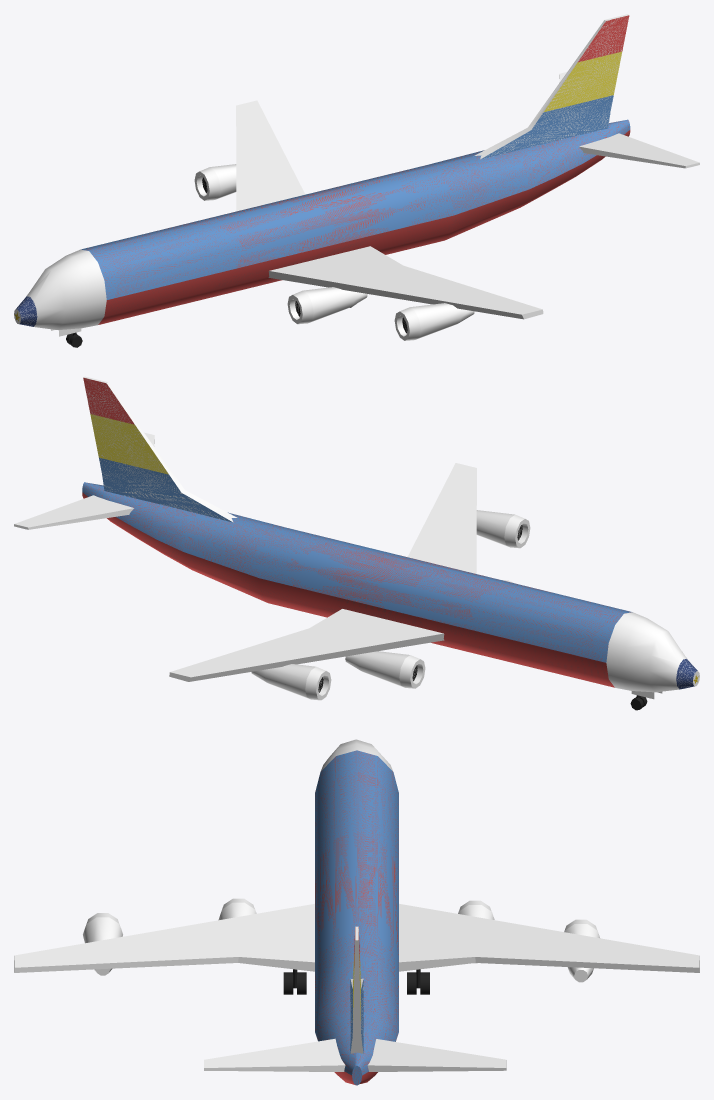
The model's file is airplane.dae.
3 views of the same model, one above another, from view 1: azimuth 30°, elevation 25°; view 2: azimuth 150°, elevation 25°; view 3: azimuth 270°, elevation 25° (orthographic). The views are drawn at different scales.
Visible parts, largest first — view 1: SketchUp (×13); view 2: SketchUp (×13); view 3: SketchUp (×10).
Part boxes in pixels (x1,y1,x2,y2): SketchUp (×13): (27,14,699,340); SketchUp (×13): (14,376,686,700); SketchUp (×10): (14,739,699,1085).
Size of the model in its own units: 1417 by 1135 by 428.
